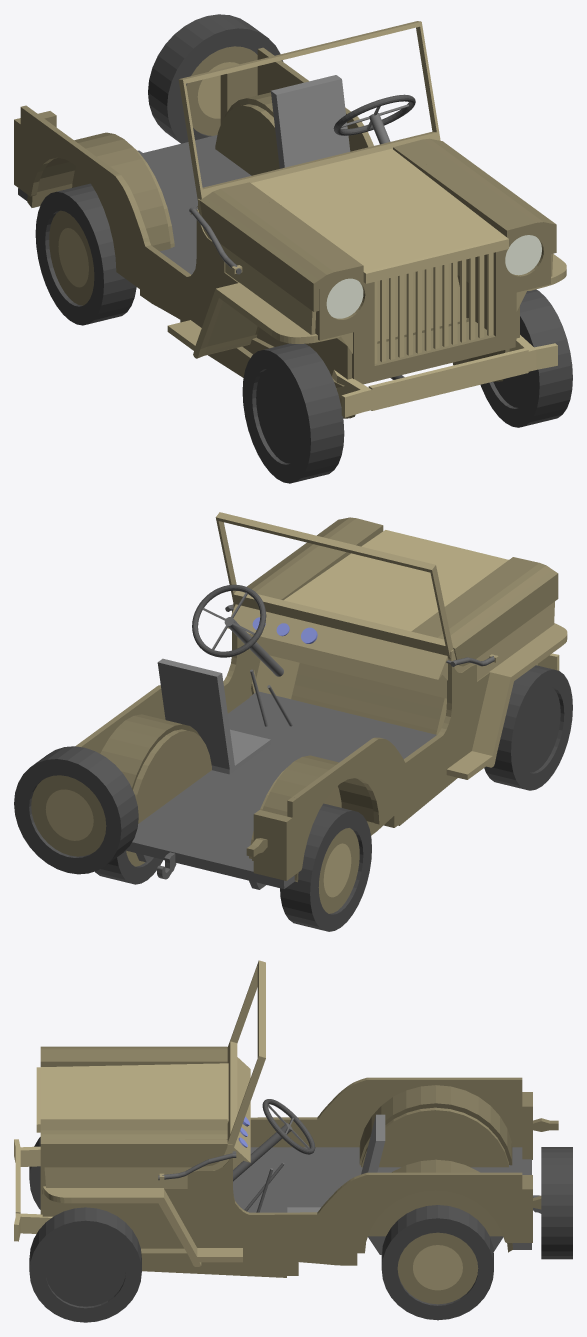
File: jeep.fbx
The picture shows the model from 3 angles, top to bottom: view 1: azimuth 30°, elevation 25°; view 2: azimuth 150°, elevation 25°; view 3: azimuth 270°, elevation 25°; orthographic projection. The views are drawn at different scales.
Visible parts, largest first — view 1: Plane, Plane.011, Cylinder.011, Cylinder.013, Cylinder.014, Plane.002, Cube.004, Cube, Cube.003, Plane.003, Cube.002, Cylinder (+6 smaller); view 2: Plane, Cube, Cube.002, Cylinder.014, Plane.011, Cylinder.013, Cylinder.011, Plane.002, Cube.003, Plane.003, Cylinder, Plane.009 (+3 smaller); view 3: Plane, Cylinder.011, Plane.011, Cylinder.013, Cylinder, Cube, Plane.003, Cube.002, Cylinder.014, Plane.002, Plane.009, Plane.007 (+7 smaller).
Part boxes in pixels (x1,y1,x2,y2): Plane: (14, 47, 556, 384); Plane.011: (251, 148, 508, 363); Cylinder.011: (242, 289, 572, 483); Cylinder.013: (35, 183, 136, 325); Cylinder.014: (148, 14, 283, 143); Plane.002: (167, 254, 566, 358); Cube.004: (332, 335, 557, 417); Cube: (18, 135, 251, 274); Cube.003: (271, 75, 350, 168); Plane.003: (27, 92, 273, 251); Cube.002: (178, 21, 440, 214); Cylinder: (72, 104, 279, 247); Plane: (75, 517, 558, 880); Cube: (125, 691, 436, 889); Cube.002: (215, 512, 453, 698); Cylinder.014: (14, 746, 138, 874); Plane.011: (284, 530, 508, 631); Cylinder.013: (95, 803, 371, 931); Cylinder.011: (136, 665, 572, 867); Plane.002: (256, 623, 567, 779); Cube.003: (157, 658, 270, 774); Plane.003: (100, 714, 373, 882); Cylinder: (133, 729, 341, 858); Plane.009: (233, 601, 554, 680); Plane: (40, 1046, 558, 1253); Cylinder.011: (29, 1137, 141, 1322); Plane.011: (36, 1063, 228, 1132); Cylinder.013: (381, 1205, 493, 1320); Cylinder: (361, 1107, 508, 1236); Cube: (233, 1147, 531, 1254); Plane.003: (359, 1085, 512, 1252); Cube.002: (227, 960, 265, 1169); Cylinder.014: (541, 1147, 572, 1259); Plane.002: (42, 1186, 242, 1266); Plane.009: (44, 1144, 232, 1188); Plane.007: (141, 1248, 286, 1277).
Bounding box in the file's own units: 356 × 362 × 699.
